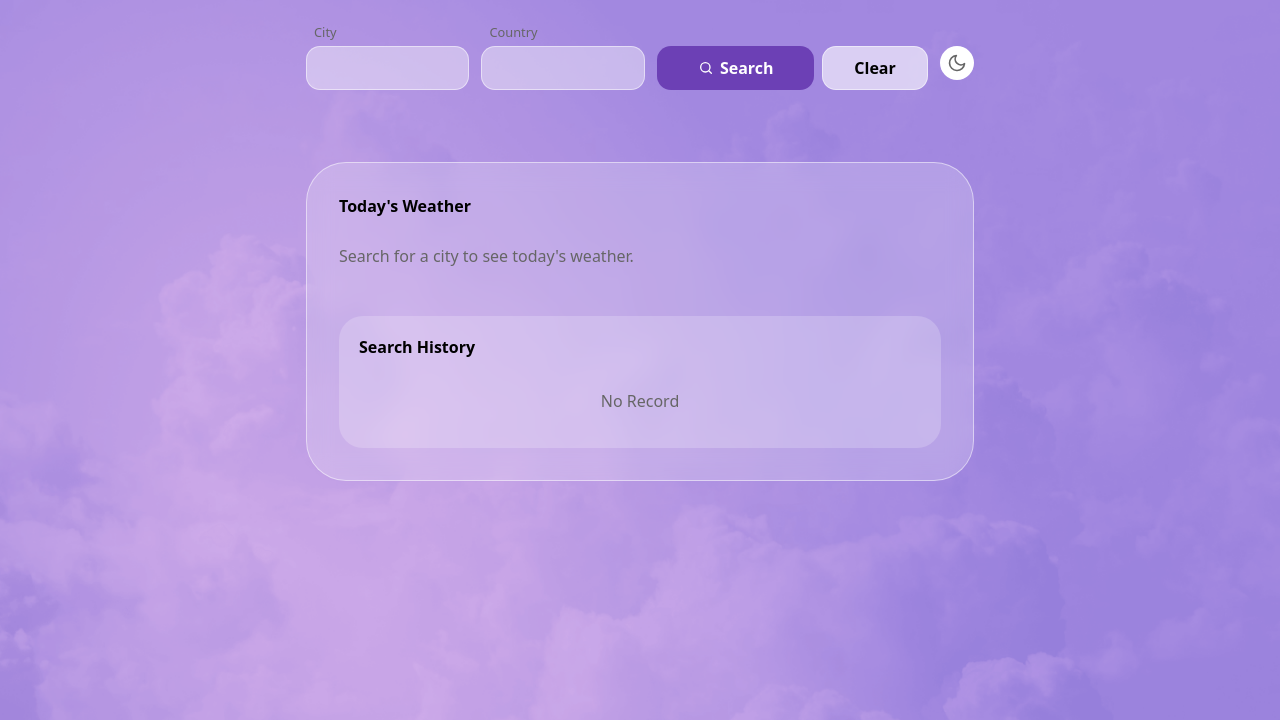
Test: App › searches again from history and moves the entry to the top
Type "Johor" into the field labelled "City".
click(388, 68); type("Johor")  # box [306,46,470,90]
Clear the field labelled "Country" at (563, 68), box [482,46,645,90]
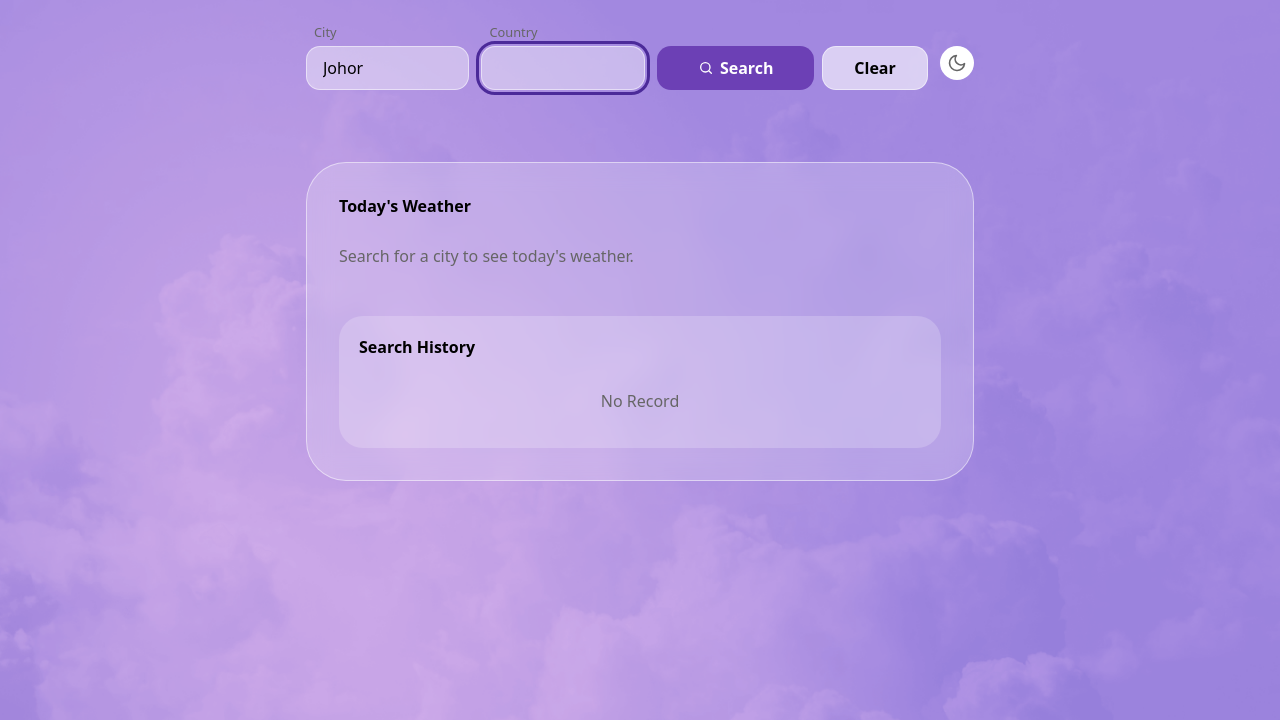
Click the button "Search".
click(736, 68)  # box [657,46,814,90]
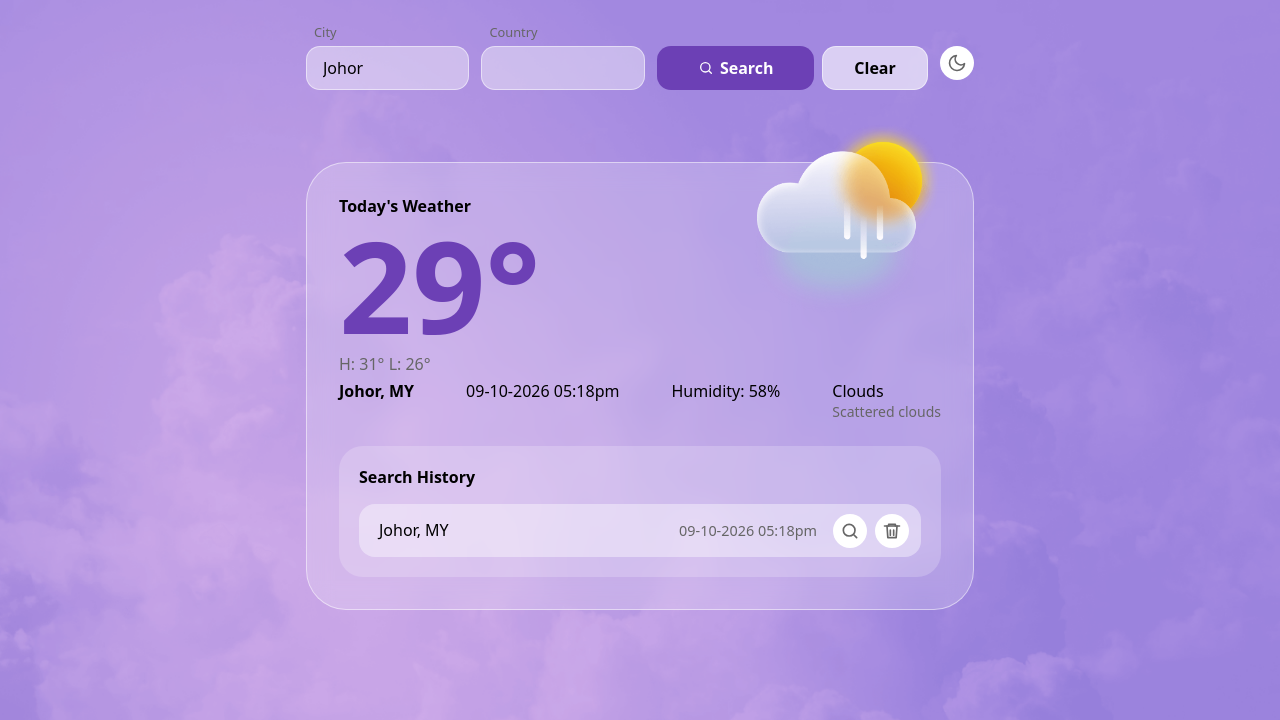
Now the text "29°" is shown, box [339,197,540,372]
Replace the text in the field labelled "City" with "Tokyo" at (388, 68), box [306,46,470,90]
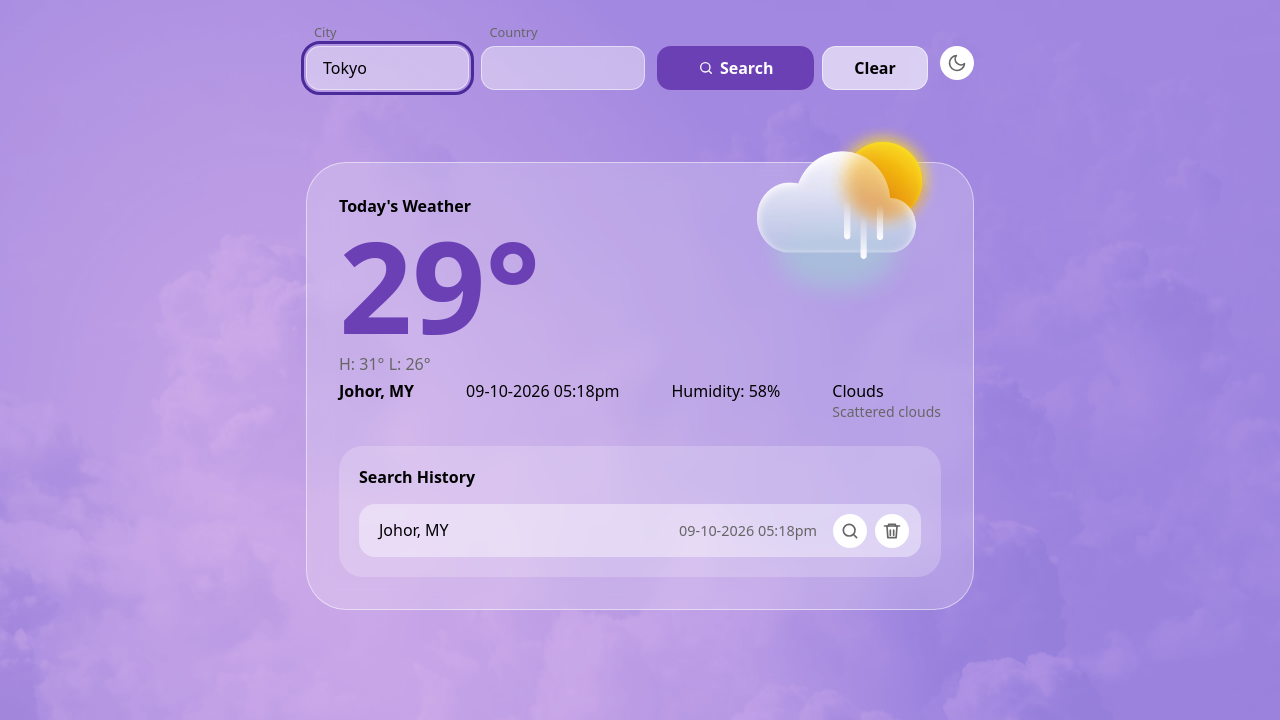
Clear the field labelled "Country" at (563, 68), box [482,46,645,90]
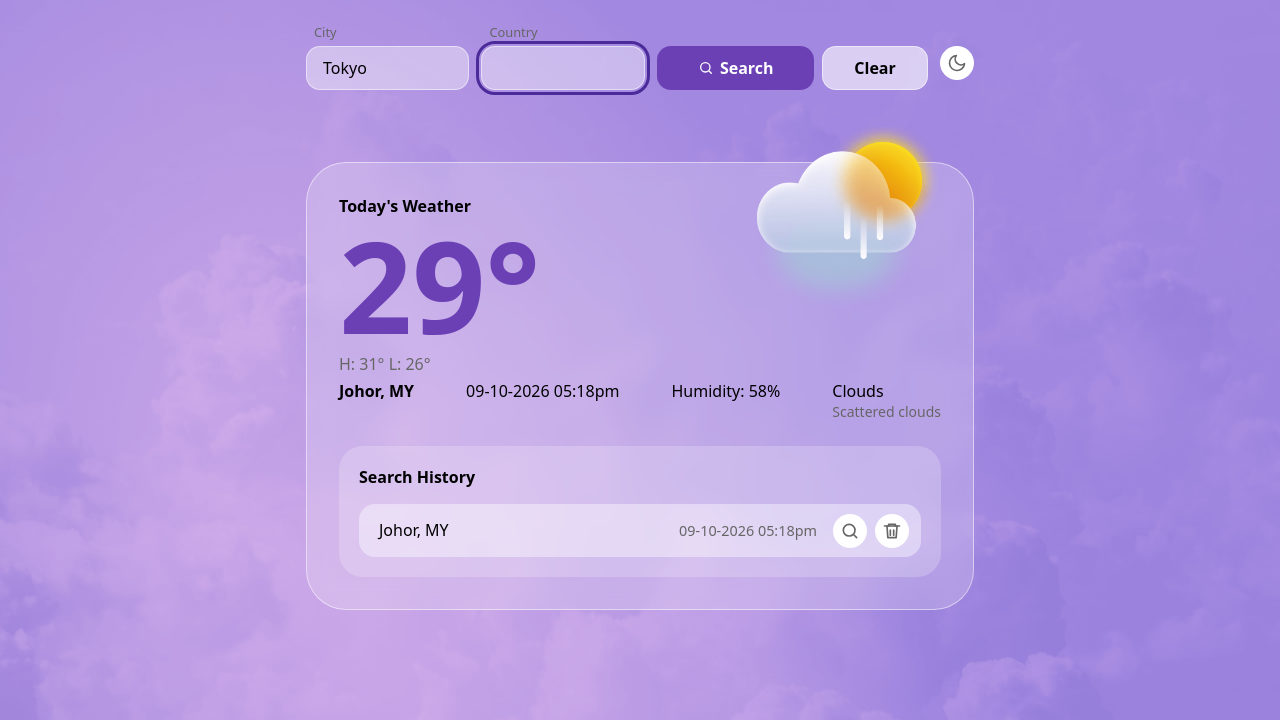
Click the button "Search".
click(736, 68)  # box [657,46,814,90]
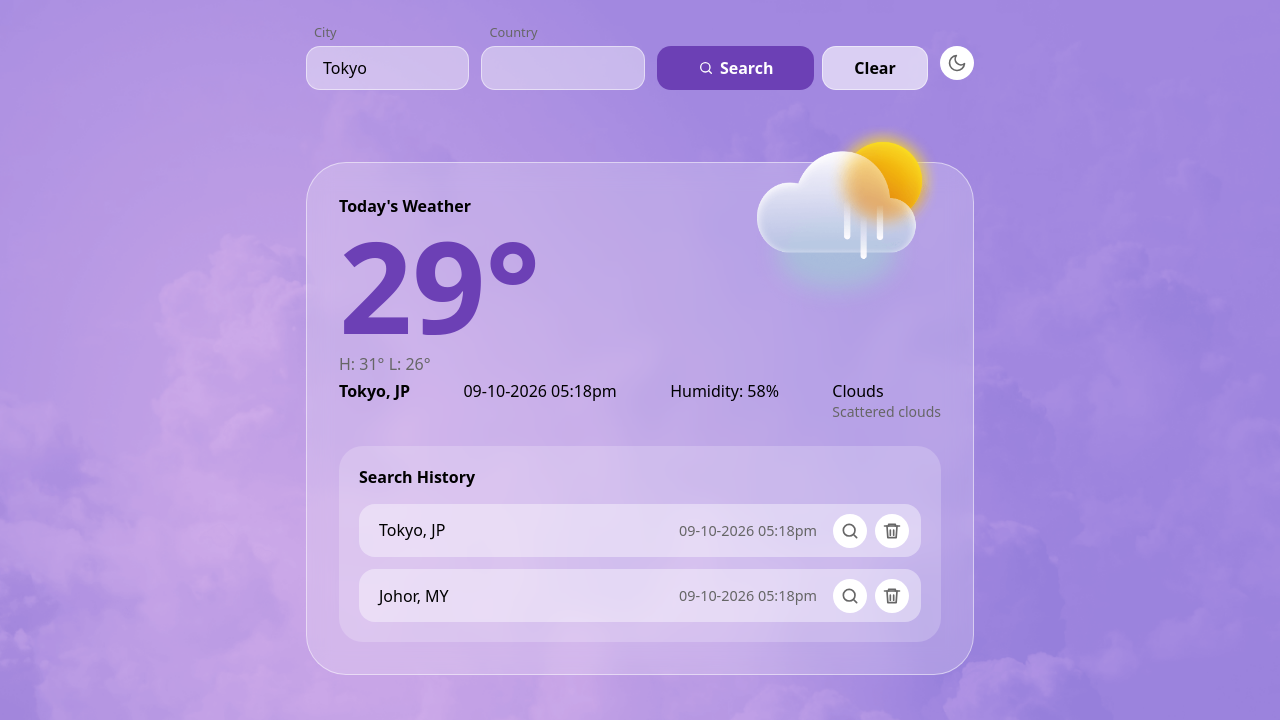
Click the button named "Search Johor, MY again".
click(850, 596)  # box [833,579,867,613]
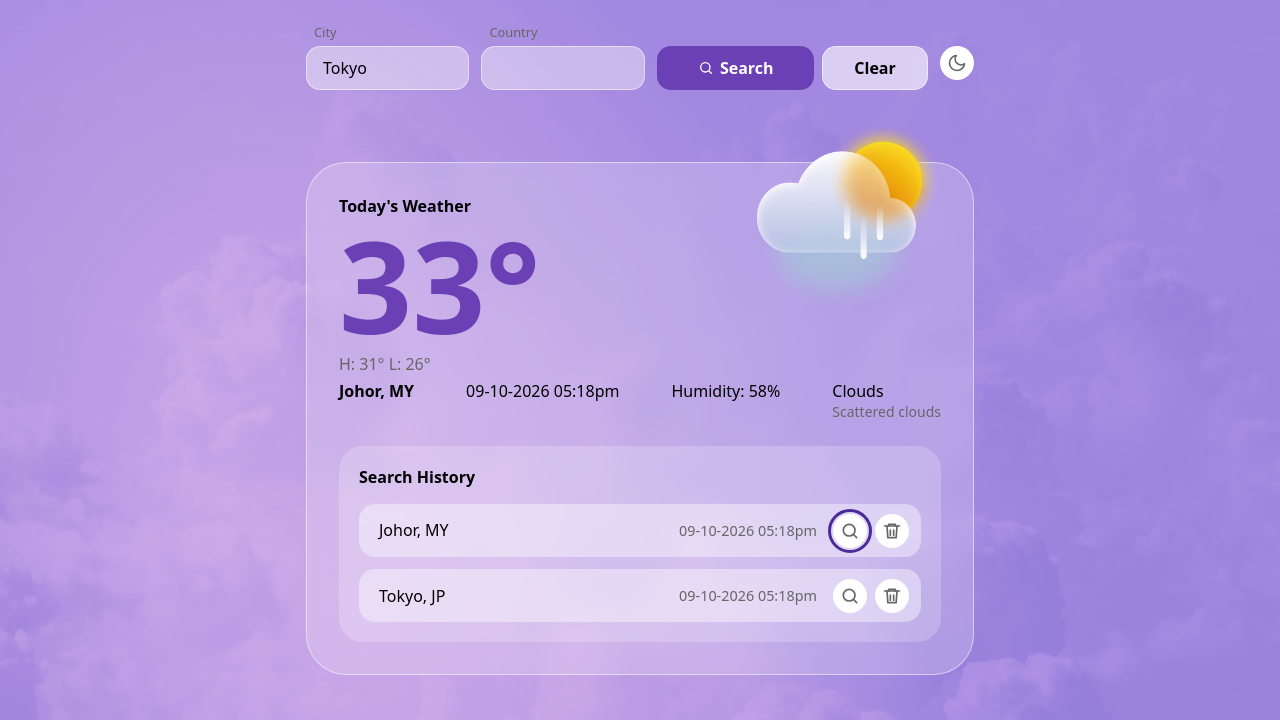
Now the number of list items is 2, box [359,504,921,557]; [359,569,921,622]
Now the list item "Johor, MY 09-10-2026 05:18pm" is shown, box [359,504,921,557]
Now the text "33°" is shown, box [339,197,540,372]
